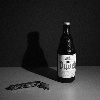beer: (56, 23, 86, 88), (54, 20, 84, 85)
